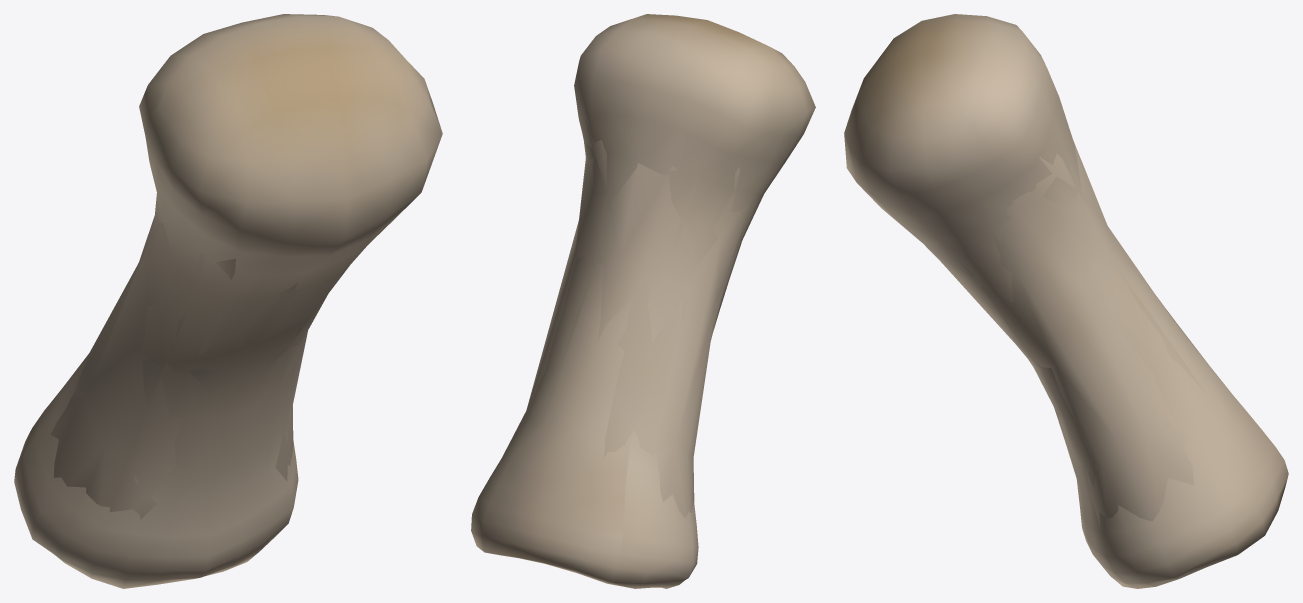
File: vertebrae caudales 07.fbx
3 views of the same model, side by side, from view 1: azimuth 30°, elevation 25°; view 2: azimuth 150°, elevation 25°; view 3: azimuth 270°, elevation 25° (orthographic). The views are drawn at different scales.
Parts seen in each view (by area): view 1: vertebrae caudales 07, vertebrae caudales 07 low; view 2: vertebrae caudales 07, vertebrae caudales 07 low; view 3: vertebrae caudales 07, vertebrae caudales 07 low.
Part boxes in pixels (x1,y1,x2,y2): vertebrae caudales 07: (14, 14, 442, 588); vertebrae caudales 07 low: (50, 194, 352, 519); vertebrae caudales 07: (471, 14, 815, 588); vertebrae caudales 07 low: (502, 118, 764, 518); vertebrae caudales 07: (844, 14, 1288, 588); vertebrae caudales 07 low: (941, 141, 1204, 524).
Bounding box in the file's own units: 1.61 × 3.6 × 2.75.
1 material, 1 textured.
